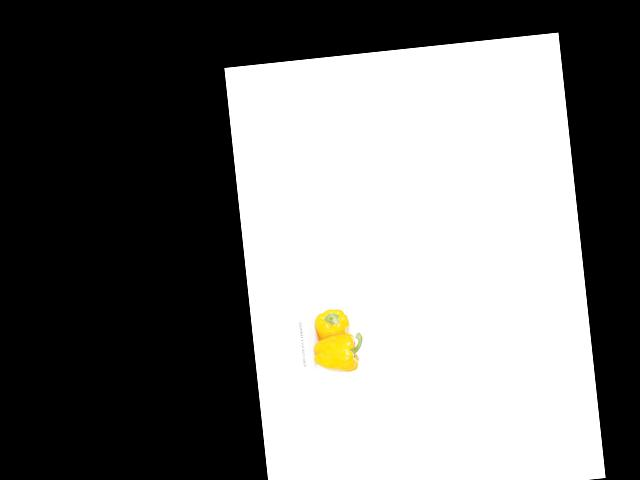bell_pepper: (311, 306, 353, 342)
